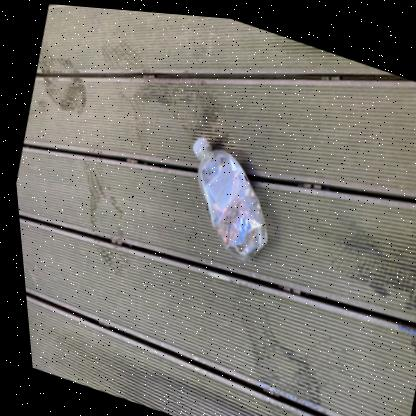Plastic: (190, 132, 263, 256)
